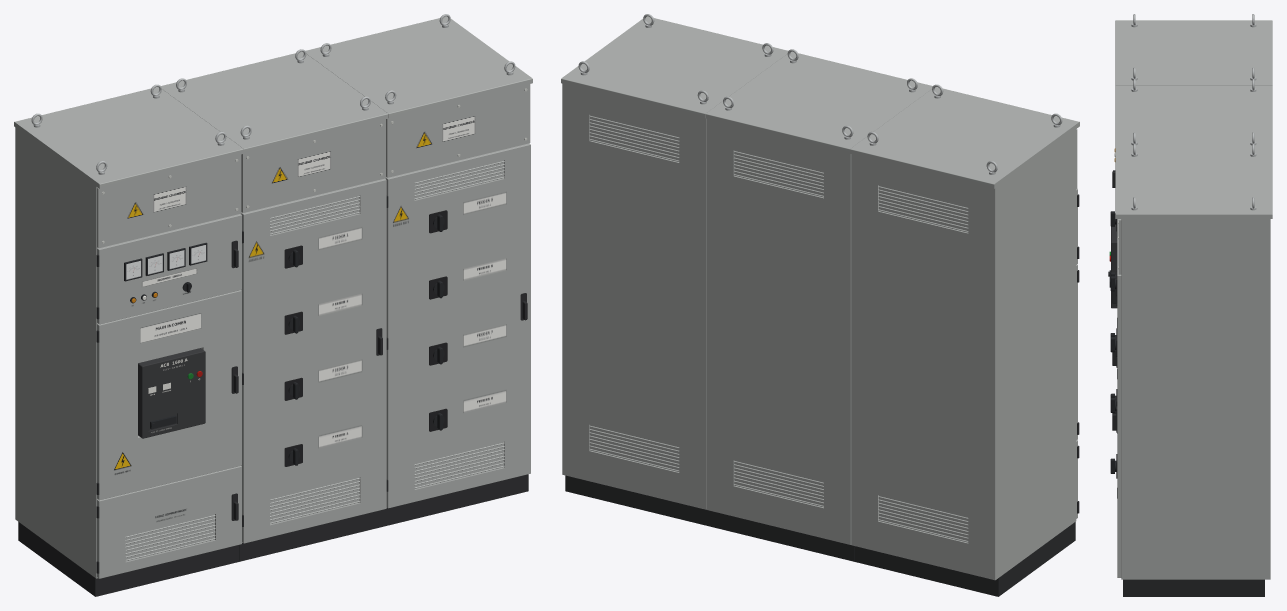
The model's file is low-voltage-form-2-switchgear-cubicle-row.glb.
The picture shows the model from 3 angles, left to right: view 1: azimuth 30°, elevation 25°; view 2: azimuth 150°, elevation 25°; view 3: azimuth 270°, elevation 25°; orthographic projection. The views are drawn at different scales.
Visible parts, largest first — view 1: Section_B_feeder_door, Section_C_feeder_door, Section_A_frame_and_panels, Section_A_breaker_door, Section_A_roof, Section_B_roof, Section_C_roof, Section_A_cable_door, Section_A_instrument_door, Section_A_busbar_chamber_cover, Section_C_busbar_chamber_cover, Section_B_busbar_chamber_cover (+4 smaller); view 2: Section_A_frame_and_panels, Section_B_frame_and_panels, Section_C_frame_and_panels, Section_A_roof, Section_B_roof, Section_C_roof, Section_A_plinth, Section_B_plinth, Section_C_plinth; view 3: Section_C_frame_and_panels, Section_C_roof, Section_A_roof, Section_B_roof, Section_C_plinth, Section_C_feeder_door, ACB_front_fascia.
Boxes of the visible parts, x1,y1,x2,y2 form: Section_B_feeder_door: [241, 178, 386, 543]; Section_C_feeder_door: [386, 143, 530, 508]; Section_A_frame_and_panels: [15, 127, 97, 578]; Section_A_breaker_door: [97, 290, 241, 500]; Section_A_roof: [14, 87, 243, 188]; Section_B_roof: [161, 51, 388, 153]; Section_C_roof: [305, 16, 532, 118]; Section_A_cable_door: [97, 466, 241, 578]; Section_A_instrument_door: [97, 214, 241, 324]; Section_A_busbar_chamber_cover: [97, 154, 241, 248]; Section_C_busbar_chamber_cover: [386, 84, 530, 177]; Section_B_busbar_chamber_cover: [241, 119, 385, 212]; Section_A_frame_and_panels: [851, 129, 1076, 580]; Section_B_frame_and_panels: [706, 119, 851, 544]; Section_C_frame_and_panels: [562, 83, 706, 509]; Section_A_roof: [850, 87, 1079, 188]; Section_B_roof: [705, 51, 932, 153]; Section_C_roof: [561, 16, 788, 118]; Section_A_plinth: [854, 522, 1075, 596]; Section_B_plinth: [709, 511, 854, 561]; Section_C_plinth: [565, 475, 709, 526]; Section_C_frame_and_panels: [1121, 219, 1270, 579]; Section_C_roof: [1115, 150, 1272, 218]; Section_A_roof: [1115, 20, 1272, 85]; Section_B_roof: [1115, 85, 1272, 149]; Section_C_plinth: [1123, 579, 1264, 596]; Section_C_feeder_door: [1117, 219, 1121, 577]; ACB_front_fascia: [1111, 224, 1117, 308].
Size of the model in its own units: 2.4 by 2.27 by 0.856.
Materials: 22 (22 with a texture image).
